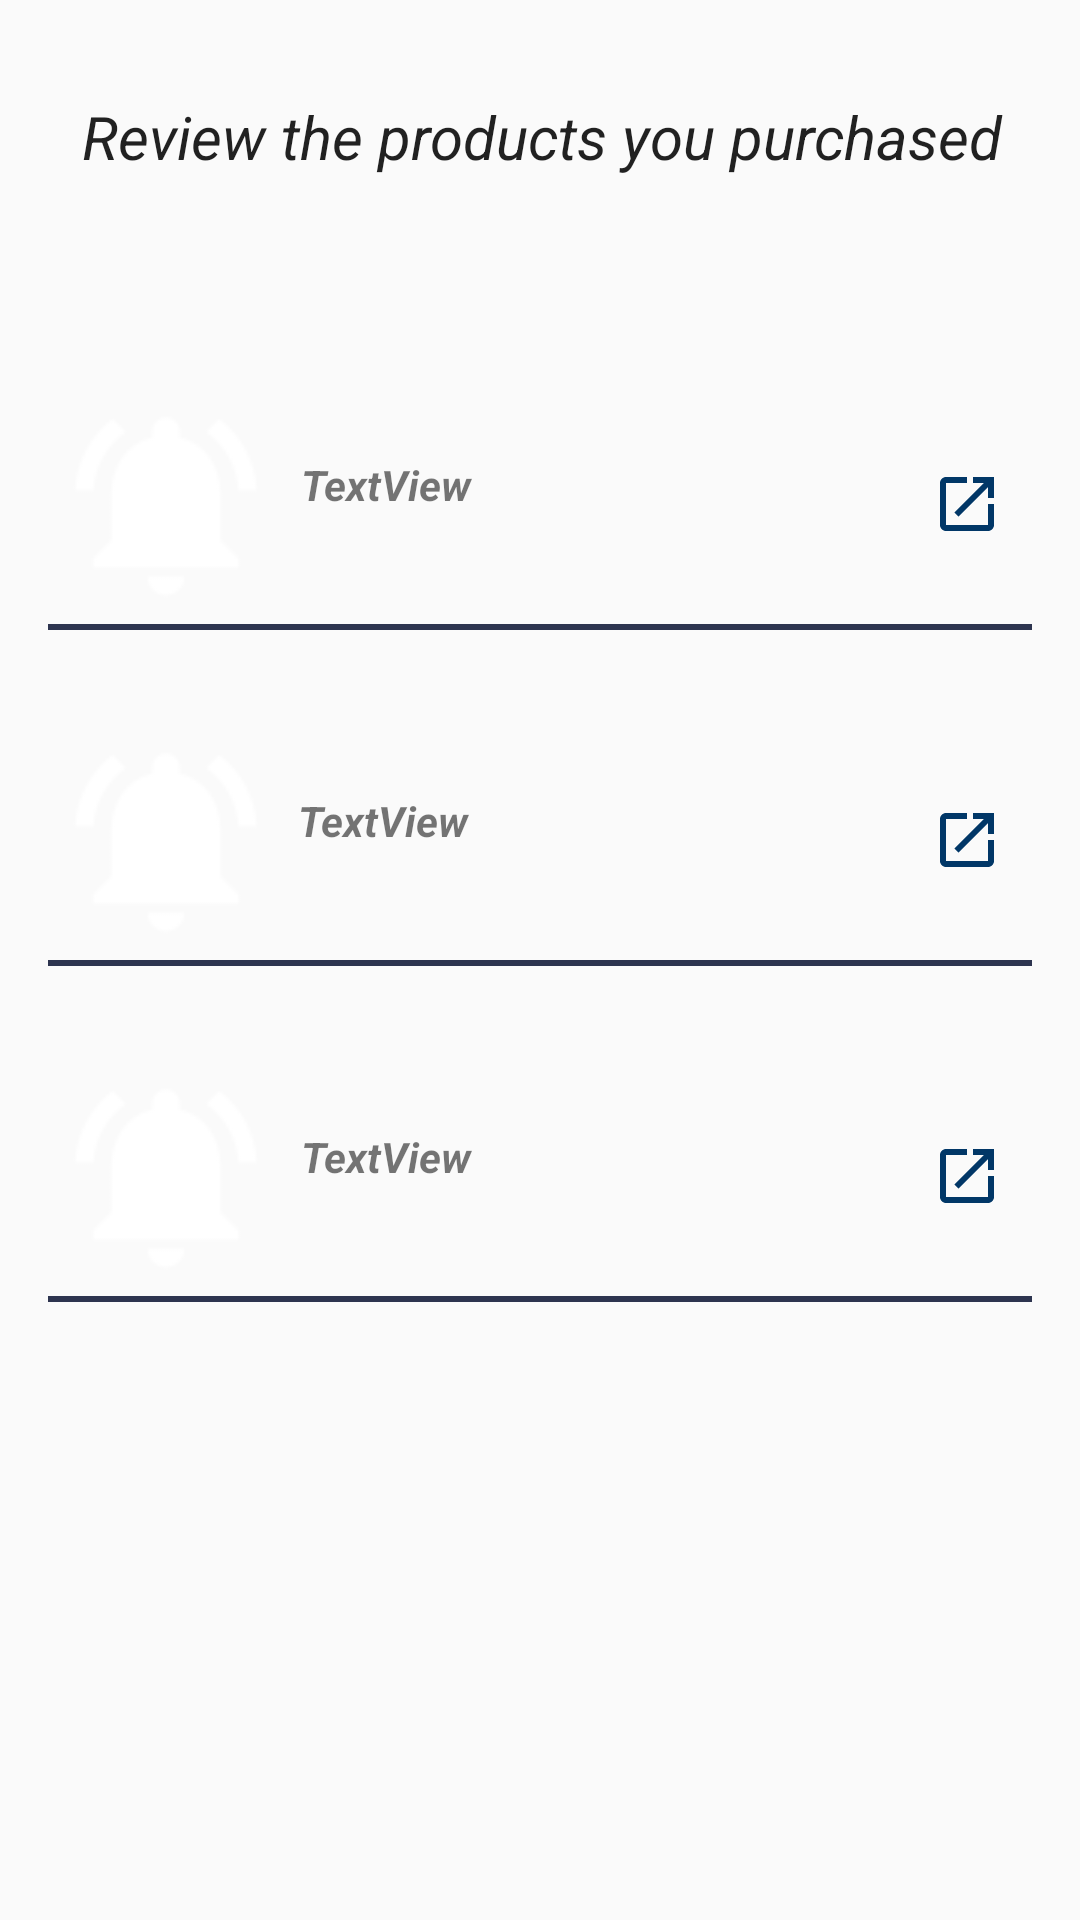

Screen size 1080px x 1920px. Icon name, then its center in pixels as [x,y]:
open in: [967,504], [967,840], [967,1176]
